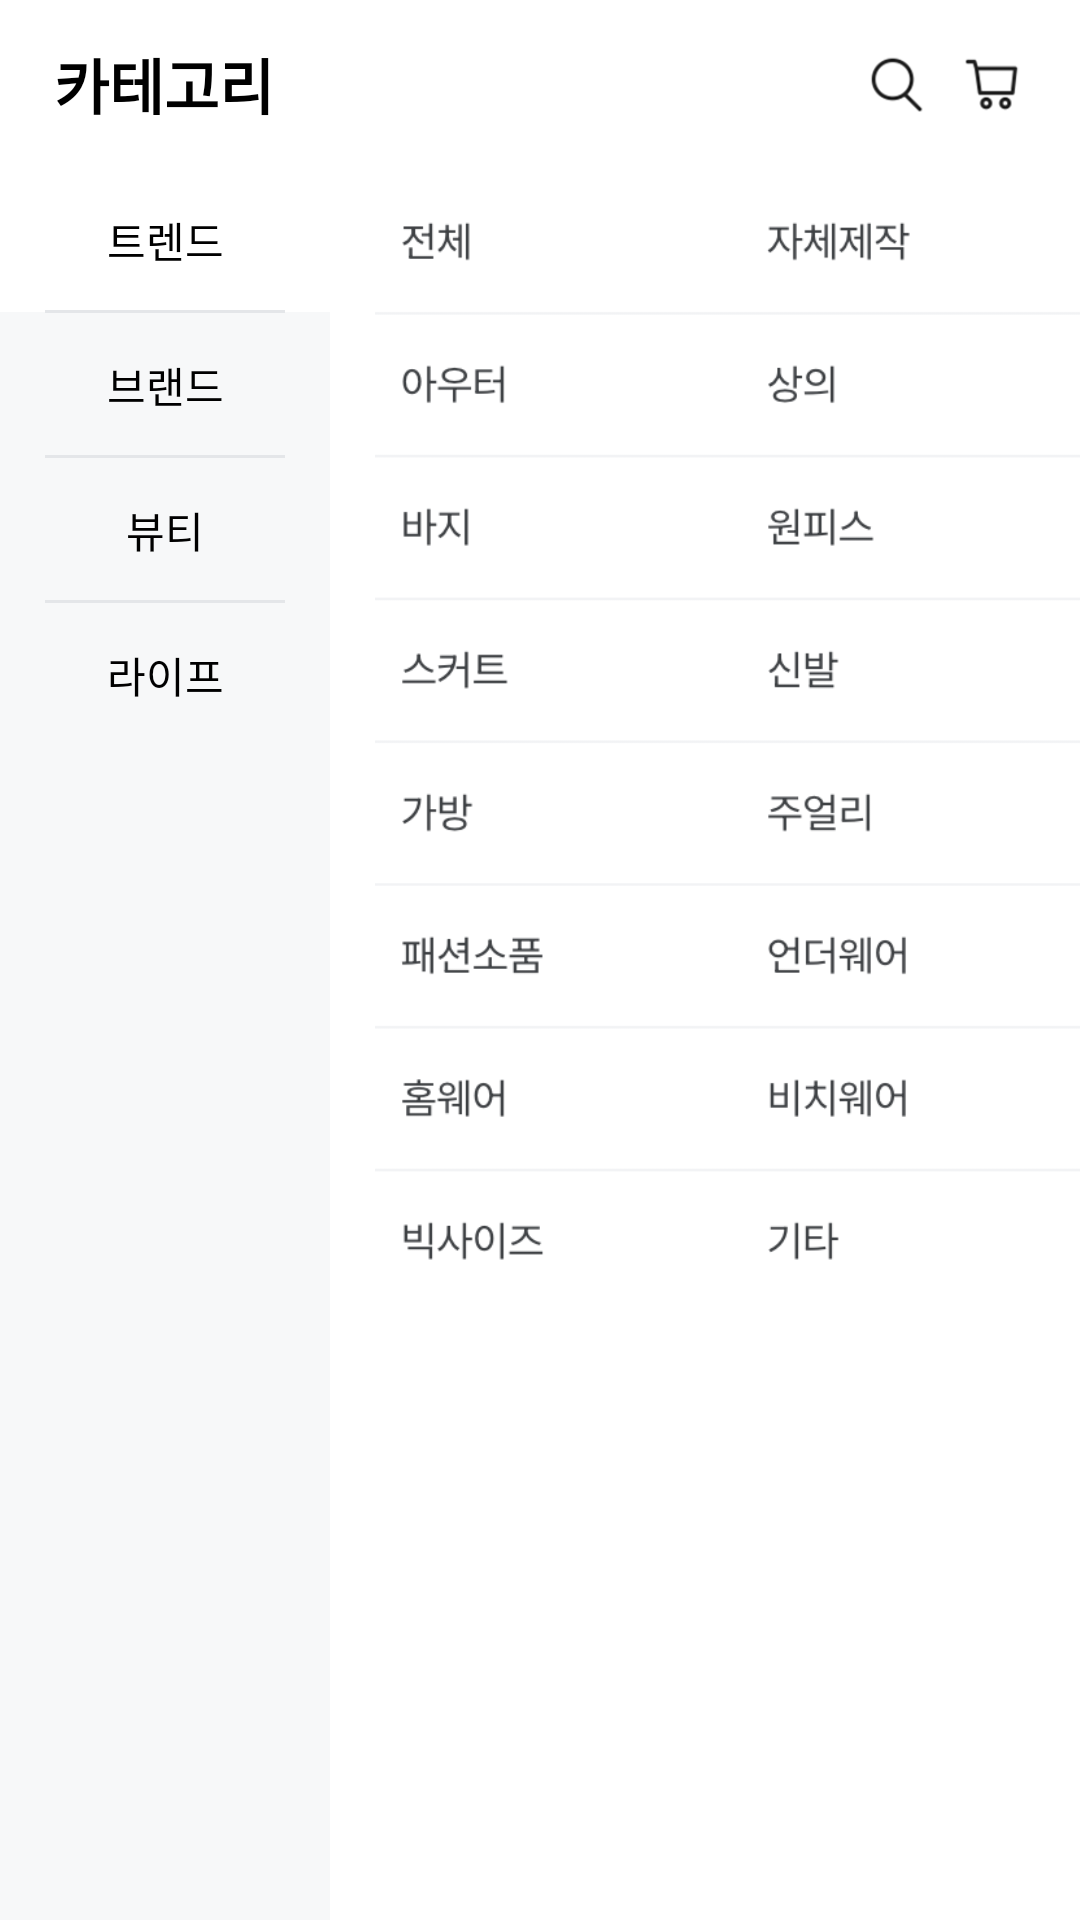

Screen size 1080px×1920px. Icon name, then its box in pixels as region(x1, y1, x2, y2):
cart: region(965, 59, 1018, 110)
search: region(871, 58, 923, 112)
